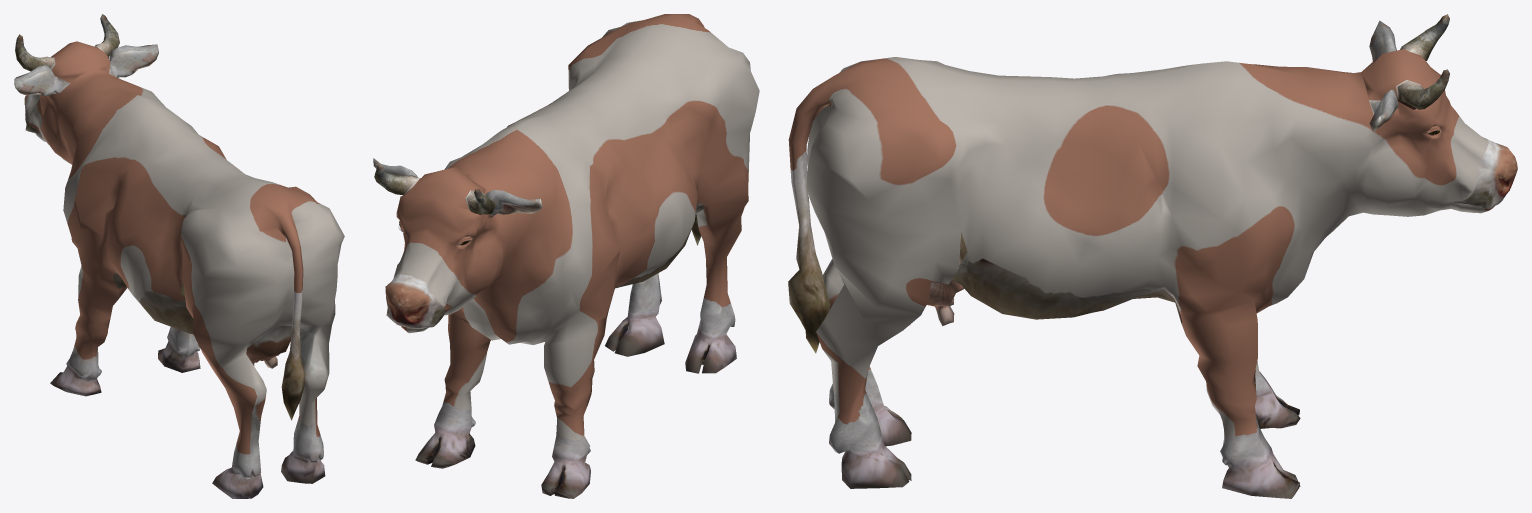
File: cow5.glb
3 views of the same model, side by side, from view 1: azimuth 30°, elevation 25°; view 2: azimuth 150°, elevation 25°; view 3: azimuth 270°, elevation 25° (orthographic). The views are drawn at different scales.
Visible parts, largest first — view 1: Cube; view 2: Cube; view 3: Cube.
Boxes of the visible parts, <box> form: Cube: <box>14,14,344,498</box>; Cube: <box>373,14,759,498</box>; Cube: <box>788,14,1517,498</box>.
Size of the model in its own units: 3.07 by 6.22 by 9.84.
3 materials, 3 textured.
